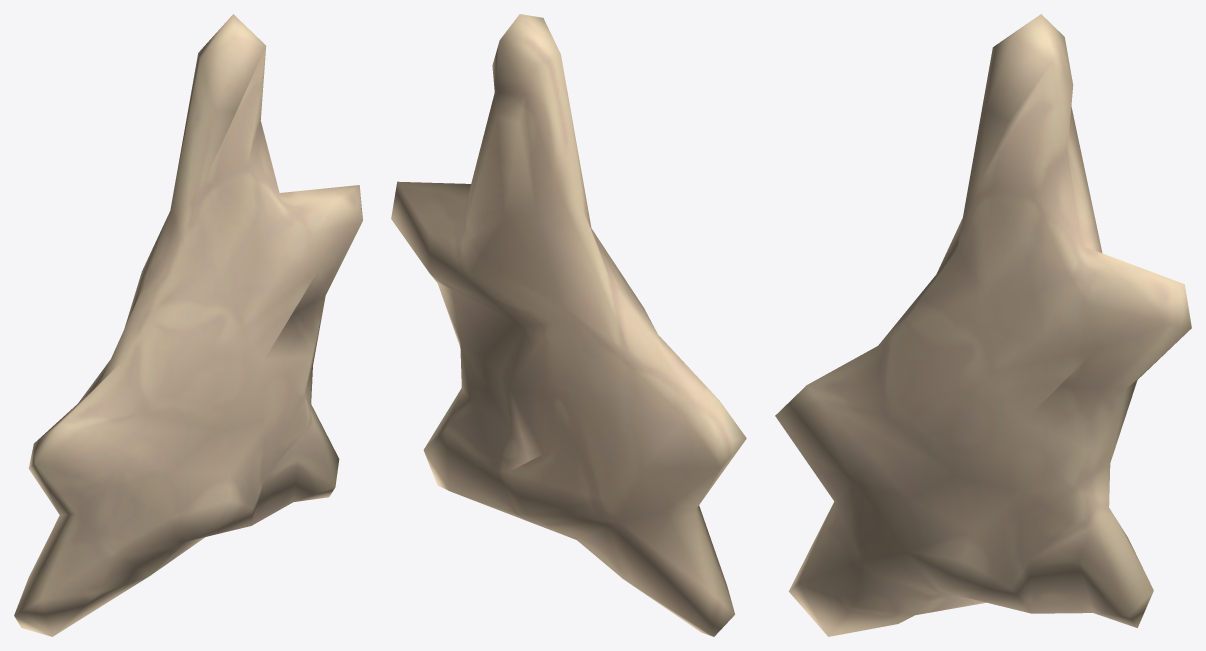
Rendered from Vd_Candle_Drip_C.fbx.
The picture shows the model from 3 angles, left to right: view 1: azimuth 30°, elevation 25°; view 2: azimuth 150°, elevation 25°; view 3: azimuth 330°, elevation 25°; orthographic projection. The views are drawn at different scales.
Visible parts, largest first — view 1: Vd_Candle_Drip_C; view 2: Vd_Candle_Drip_C; view 3: Vd_Candle_Drip_C.
Boxes of the visible parts, box(x1,y1,x2,y2) form: Vd_Candle_Drip_C: box(14, 14, 362, 636); Vd_Candle_Drip_C: box(391, 14, 746, 636); Vd_Candle_Drip_C: box(775, 14, 1191, 636).
Bounding box in the file's own units: 121 × 192 × 27.94.
